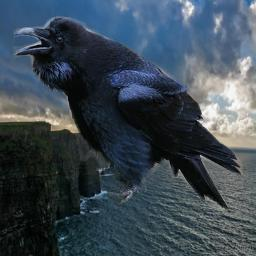Crow: (13, 16, 243, 215)
